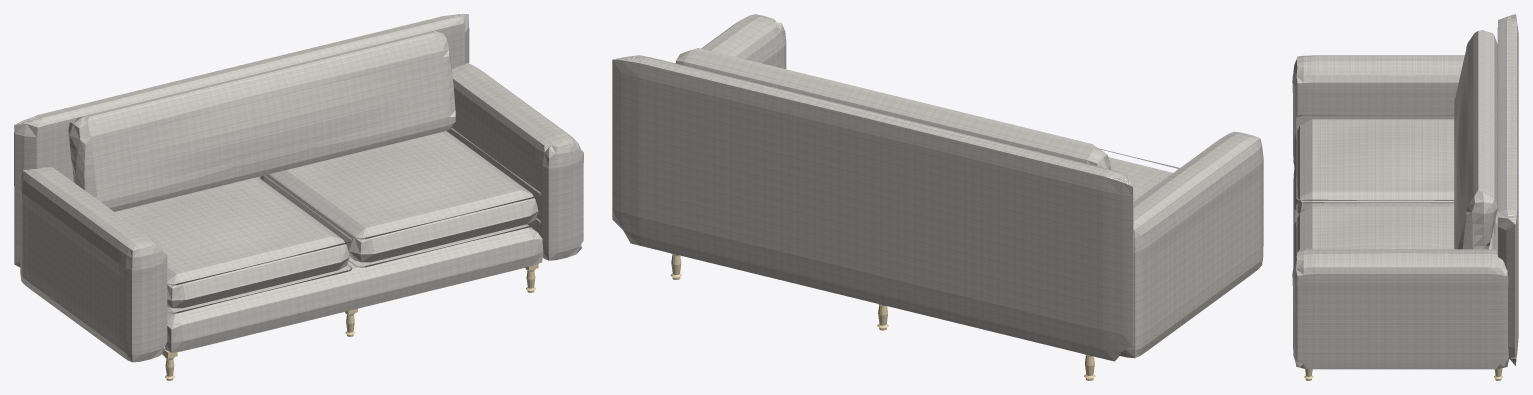
File: LIT-ERA-3-seat.glb
3 views of the same model, side by side, from view 1: azimuth 30°, elevation 25°; view 2: azimuth 150°, elevation 25°; view 3: azimuth 270°, elevation 25° (orthographic). The views are drawn at different scales.
Parts seen in each view (by area): view 1: inside-back:fabric:eyJwcmVzZXQiOiJsaW5lbiIsIndhcnAiOiJ3aGl0Z, seat-2:fabric:eyJwcmVzZXQiOiJsaW5lbiIsIndhcnAiOiJ3aGl0ZSIsIn, arm-pad-l:fabric:eyJwcmVzZXQiOiJsaW5lbiIsIndhcnAiOiJ3aGl0ZSI, seat-1:fabric:eyJwcmVzZXQiOiJsaW5lbiIsIndhcnAiOiJ3aGl0ZSIsIn, deck:fabric:eyJwcmVzZXQiOiJsaW5lbiIsIndhcnAiOiJ3aGl0ZSIsIndl, arm-pad-r:fabric:eyJwcmVzZXQiOiJsaW5lbiIsIndhcnAiOiJ3aGl0ZSI, back-pad:fabric:eyJwcmVzZXQiOiJsaW5lbiIsIndhcnAiOiJ3aGl0ZSIs, seat-2:piping:pbr, seat-1:piping:pbr; view 2: back-pad:fabric:eyJwcmVzZXQiOiJsaW5lbiIsIndhcnAiOiJ3aGl0ZSIs, arm-pad-l:fabric:eyJwcmVzZXQiOiJsaW5lbiIsIndhcnAiOiJ3aGl0ZSI, inside-back:fabric:eyJwcmVzZXQiOiJsaW5lbiIsIndhcnAiOiJ3aGl0Z, arm-pad-r:fabric:eyJwcmVzZXQiOiJsaW5lbiIsIndhcnAiOiJ3aGl0ZSI, seat-1:fabric:eyJwcmVzZXQiOiJsaW5lbiIsIndhcnAiOiJ3aGl0ZSIsIn; view 3: arm-pad-r:fabric:eyJwcmVzZXQiOiJsaW5lbiIsIndhcnAiOiJ3aGl0ZSI, seat-1:fabric:eyJwcmVzZXQiOiJsaW5lbiIsIndhcnAiOiJ3aGl0ZSIsIn, arm-pad-l:fabric:eyJwcmVzZXQiOiJsaW5lbiIsIndhcnAiOiJ3aGl0ZSI, inside-back:fabric:eyJwcmVzZXQiOiJsaW5lbiIsIndhcnAiOiJ3aGl0Z, seat-2:fabric:eyJwcmVzZXQiOiJsaW5lbiIsIndhcnAiOiJ3aGl0ZSIsIn, back-pad:fabric:eyJwcmVzZXQiOiJsaW5lbiIsIndhcnAiOiJ3aGl0ZSIs, seat-1:piping:pbr, seat-2:piping:pbr, deck:fabric:eyJwcmVzZXQiOiJsaW5lbiIsIndhcnAiOiJ3aGl0ZSIsIndl.
Boxes of the visible parts, box(x1,y1,x2,y2) form: inside-back:fabric:eyJwcmVzZXQiOiJsaW5lbiIsIndhcnAiOiJ3aGl0Z: box(68, 31, 455, 211); seat-2:fabric:eyJwcmVzZXQiOiJsaW5lbiIsIndhcnAiOiJ3aGl0ZSIsIn: box(260, 131, 538, 262); arm-pad-l:fabric:eyJwcmVzZXQiOiJsaW5lbiIsIndhcnAiOiJ3aGl0ZSI: box(20, 167, 167, 362); seat-1:fabric:eyJwcmVzZXQiOiJsaW5lbiIsIndhcnAiOiJ3aGl0ZSIsIn: box(115, 177, 349, 308); deck:fabric:eyJwcmVzZXQiOiJsaW5lbiIsIndhcnAiOiJ3aGl0ZSIsIndl: box(164, 224, 543, 352); arm-pad-r:fabric:eyJwcmVzZXQiOiJsaW5lbiIsIndhcnAiOiJ3aGl0ZSI: box(447, 63, 583, 260); back-pad:fabric:eyJwcmVzZXQiOiJsaW5lbiIsIndhcnAiOiJ3aGl0ZSIs: box(14, 14, 469, 267); seat-2:piping:pbr: box(269, 128, 540, 267); seat-1:piping:pbr: box(167, 175, 352, 313); back-pad:fabric:eyJwcmVzZXQiOiJsaW5lbiIsIndhcnAiOiJ3aGl0ZSIs: box(612, 55, 1133, 361); arm-pad-l:fabric:eyJwcmVzZXQiOiJsaW5lbiIsIndhcnAiOiJ3aGl0ZSI: box(1120, 131, 1263, 358); inside-back:fabric:eyJwcmVzZXQiOiJsaW5lbiIsIndhcnAiOiJ3aGl0Z: box(675, 48, 1111, 169); arm-pad-r:fabric:eyJwcmVzZXQiOiJsaW5lbiIsIndhcnAiOiJ3aGl0ZSI: box(701, 14, 786, 68); seat-1:fabric:eyJwcmVzZXQiOiJsaW5lbiIsIndhcnAiOiJ3aGl0ZSIsIn: box(1108, 157, 1172, 201); arm-pad-r:fabric:eyJwcmVzZXQiOiJsaW5lbiIsIndhcnAiOiJ3aGl0ZSI: box(1292, 249, 1509, 369); seat-1:fabric:eyJwcmVzZXQiOiJsaW5lbiIsIndhcnAiOiJ3aGl0ZSIsIn: box(1294, 119, 1454, 215); arm-pad-l:fabric:eyJwcmVzZXQiOiJsaW5lbiIsIndhcnAiOiJ3aGl0ZSI: box(1292, 55, 1464, 164); inside-back:fabric:eyJwcmVzZXQiOiJsaW5lbiIsIndhcnAiOiJ3aGl0Z: box(1454, 30, 1497, 249); seat-2:fabric:eyJwcmVzZXQiOiJsaW5lbiIsIndhcnAiOiJ3aGl0ZSIsIn: box(1294, 206, 1497, 260); back-pad:fabric:eyJwcmVzZXQiOiJsaW5lbiIsIndhcnAiOiJ3aGl0ZSIs: box(1497, 14, 1518, 365); seat-1:piping:pbr: box(1296, 114, 1495, 220); seat-2:piping:pbr: box(1296, 202, 1495, 253); deck:fabric:eyJwcmVzZXQiOiJsaW5lbiIsIndhcnAiOiJ3aGl0ZSIsIndl: box(1293, 170, 1497, 265).
Size of the model in its own units: 2.1 by 0.86 by 0.95.
Materials: 15 (7 with a texture image).
